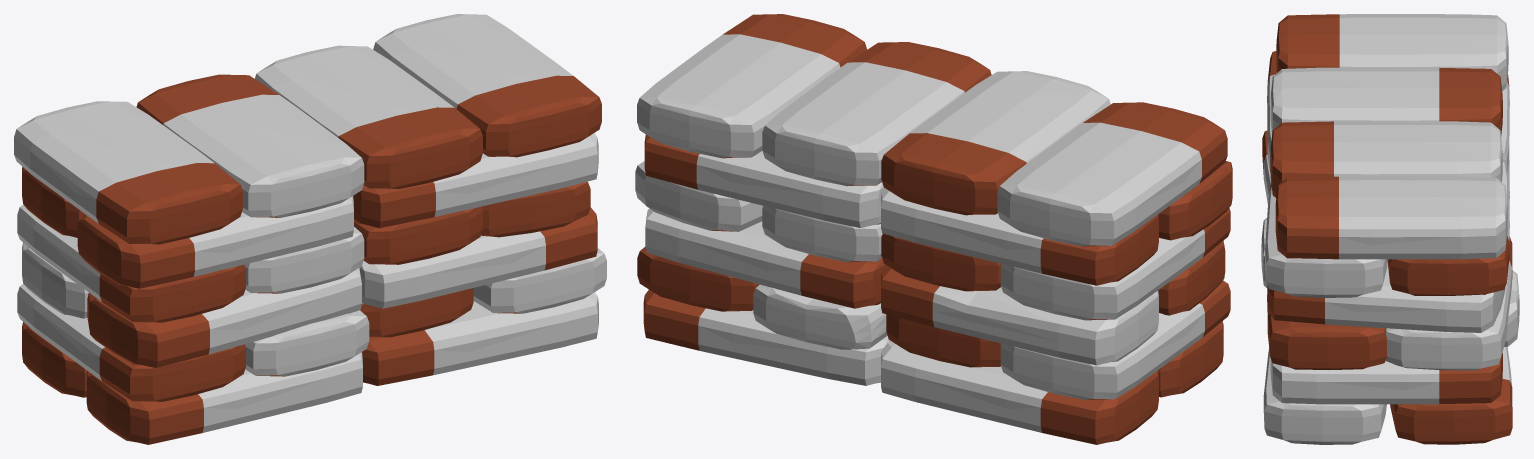
Rendered from SM_IndustrialProps_Construction_04.fbx.
The picture shows the model from 3 angles, left to right: view 1: azimuth 30°, elevation 25°; view 2: azimuth 150°, elevation 25°; view 3: azimuth 270°, elevation 25°; orthographic projection. The views are drawn at different scales.
Parts seen in each view (by area): view 1: SM_IndustrialProps_Construction_04; view 2: SM_IndustrialProps_Construction_04; view 3: SM_IndustrialProps_Construction_04.
Boxes of the visible parts, x1,y1,x2,y2 form: SM_IndustrialProps_Construction_04: (14,14,606,444); SM_IndustrialProps_Construction_04: (635,14,1232,444); SM_IndustrialProps_Construction_04: (1261,14,1519,444).
Size of the model in its own units: 1.46 by 0.6891 by 0.7145.
